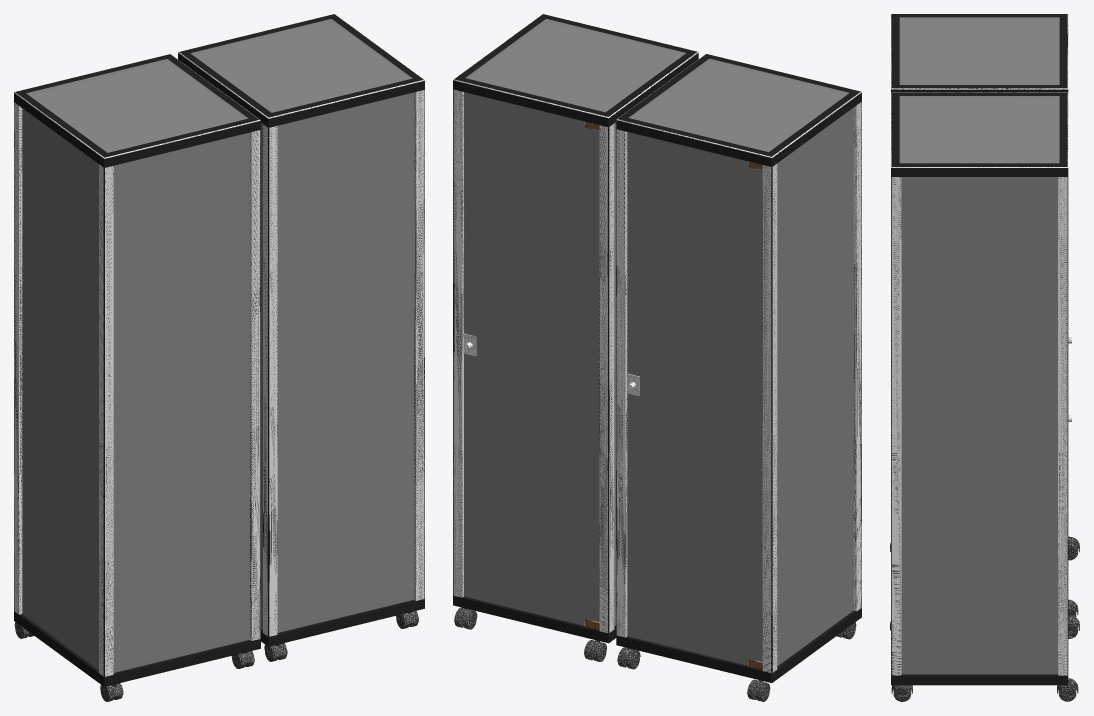
The picture shows the model from 3 angles, left to right: view 1: azimuth 30°, elevation 25°; view 2: azimuth 150°, elevation 25°; view 3: azimuth 270°, elevation 25°; orthographic projection. The views are drawn at different scales.
Parts seen in each view (by area): view 1: mesh1_mesh1-geometry, mesh29_mesh29-geometry, mesh31_mesh31-geometry, mesh50_mesh50-geometry, mesh25_mesh25-geometry, mesh4_mesh4-geometry, mesh28_mesh28-geometry, mesh7_mesh7-geometry; view 2: mesh49_mesh49-geometry, mesh24_mesh24-geometry, mesh31_mesh31-geometry, mesh50_mesh50-geometry, mesh25_mesh25-geometry, mesh28_mesh28-geometry, mesh4_mesh4-geometry, mesh7_mesh7-geometry; view 3: mesh5_mesh5-geometry, mesh25_mesh25-geometry, mesh28_mesh28-geometry, mesh4_mesh4-geometry, mesh50_mesh50-geometry, mesh11_mesh11-geometry.
Part boxes in pixels (left/top/right/bottom): mesh1_mesh1-geometry: left=277, top=92, right=413, bottom=632; mesh29_mesh29-geometry: left=113, top=132, right=249, bottom=672; mesh31_mesh31-geometry: left=22, top=108, right=98, bottom=669; mesh50_mesh50-geometry: left=14, top=54, right=260, bottom=686; mesh25_mesh25-geometry: left=178, top=14, right=424, bottom=646; mesh4_mesh4-geometry: left=190, top=19, right=412, bottom=112; mesh28_mesh28-geometry: left=26, top=59, right=248, bottom=152; mesh7_mesh7-geometry: left=261, top=123, right=262, bottom=629; mesh49_mesh49-geometry: left=627, top=132, right=762, bottom=665; mesh24_mesh24-geometry: left=464, top=92, right=599, bottom=625; mesh31_mesh31-geometry: left=777, top=108, right=853, bottom=666; mesh50_mesh50-geometry: left=616, top=54, right=861, bottom=682; mesh25_mesh25-geometry: left=453, top=14, right=698, bottom=643; mesh28_mesh28-geometry: left=628, top=58, right=849, bottom=151; mesh4_mesh4-geometry: left=465, top=18, right=685, bottom=112; mesh7_mesh7-geometry: left=614, top=122, right=616, bottom=626; mesh5_mesh5-geometry: left=901, top=177, right=1057, bottom=674; mesh25_mesh25-geometry: left=891, top=92, right=1068, bottom=685; mesh28_mesh28-geometry: left=899, top=17, right=1059, bottom=84; mesh4_mesh4-geometry: left=899, top=96, right=1059, bottom=163; mesh50_mesh50-geometry: left=891, top=14, right=1068, bottom=92; mesh11_mesh11-geometry: left=893, top=622, right=1078, bottom=701.
Bounding box in the file's own units: 0.5039 × 0.8226 × 0.2634.
